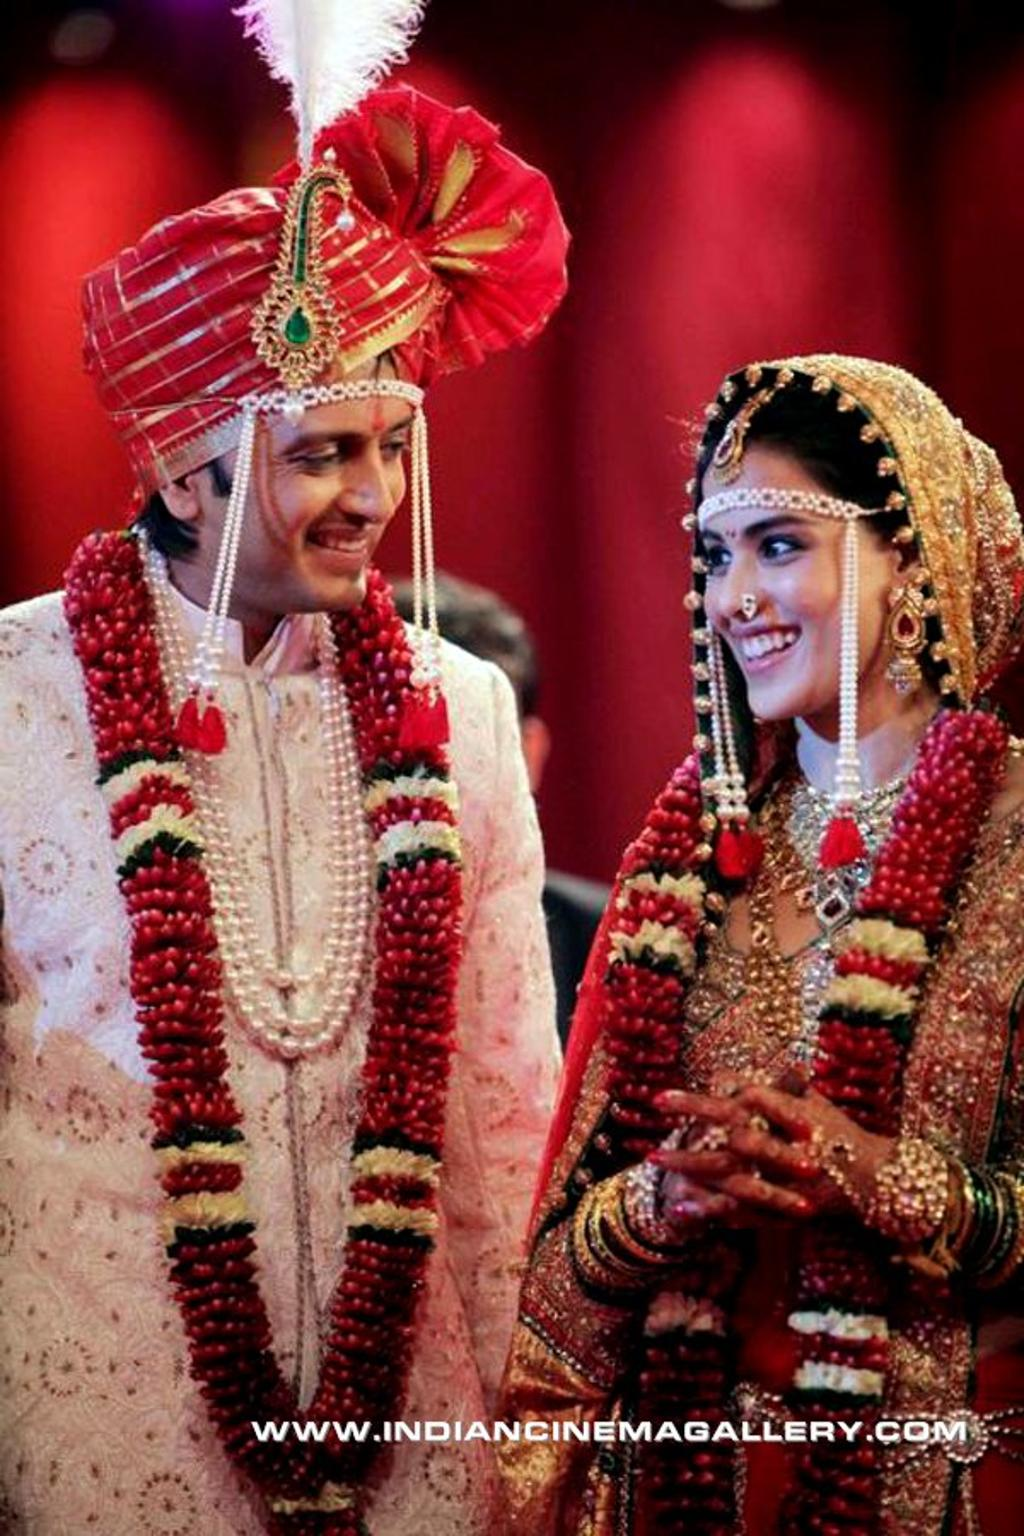face: (700, 447, 895, 711), (243, 372, 417, 609)
